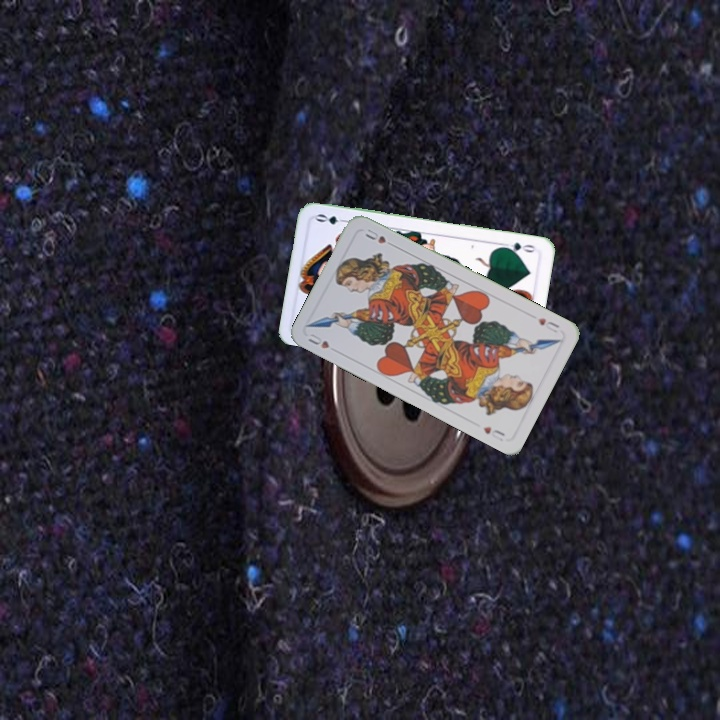GO: (498, 238, 538, 255)
HU: (534, 314, 562, 335), (304, 330, 332, 351)
